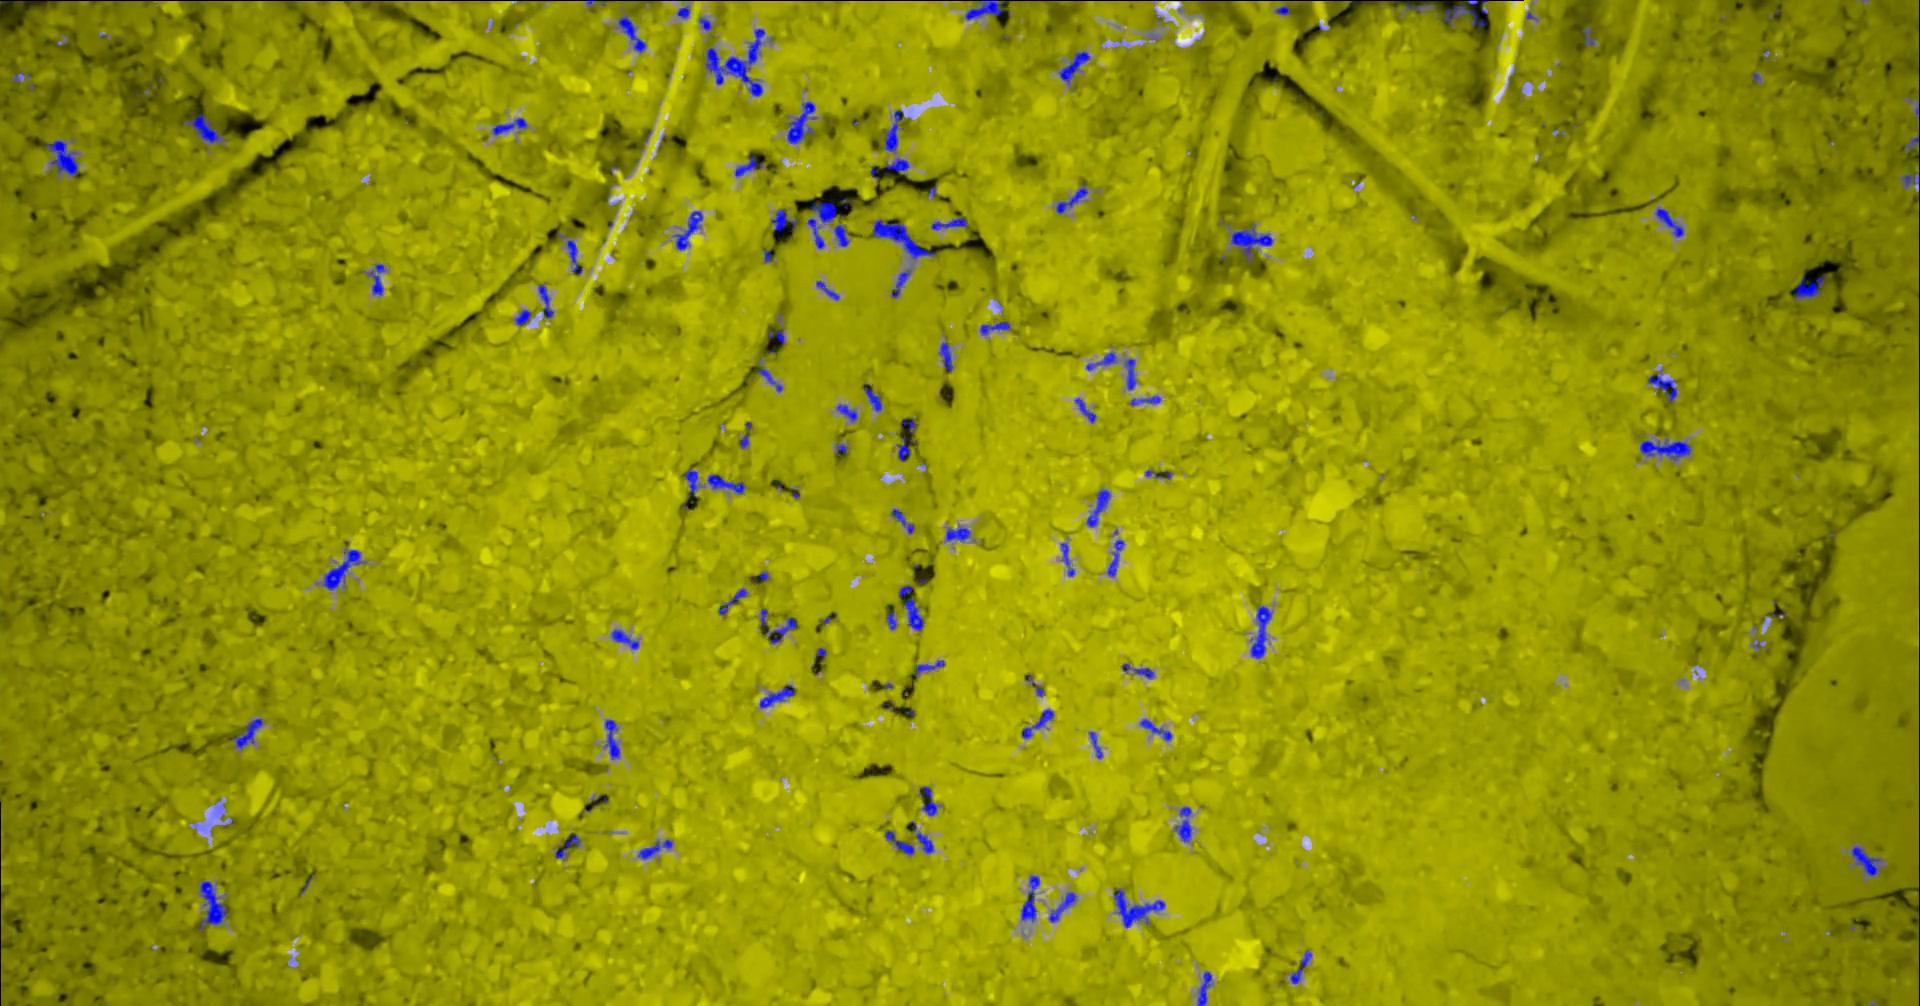ant: (872, 218, 938, 259), (1115, 888, 1166, 927), (324, 549, 363, 589), (1232, 226, 1274, 263), (199, 882, 229, 931), (46, 140, 80, 177), (1445, 0, 1490, 28), (789, 102, 817, 144), (185, 113, 223, 144), (674, 210, 703, 249), (1641, 438, 1691, 460), (1252, 605, 1272, 658), (618, 15, 648, 52), (900, 586, 924, 630), (1057, 183, 1090, 213), (1060, 51, 1091, 83), (1023, 708, 1055, 738), (232, 718, 265, 747), (1088, 489, 1112, 527), (761, 683, 797, 708), (1050, 890, 1078, 922), (1022, 875, 1041, 921), (1656, 208, 1685, 238), (885, 109, 905, 151), (1853, 846, 1881, 876), (968, 0, 1012, 19), (1650, 373, 1677, 403), (720, 588, 749, 615), (768, 617, 797, 643), (886, 829, 916, 855), (1796, 276, 1827, 298), (1142, 718, 1173, 741), (1291, 950, 1313, 983), (709, 474, 745, 493), (737, 155, 768, 177), (757, 366, 783, 391), (639, 840, 674, 859), (606, 719, 621, 760), (891, 508, 916, 533), (811, 201, 838, 224), (1109, 539, 1125, 575), (1176, 807, 1192, 842), (557, 835, 582, 859), (773, 208, 799, 231), (916, 659, 946, 678), (612, 629, 640, 649), (494, 117, 528, 133), (568, 240, 584, 274), (370, 263, 387, 295), (1087, 352, 1117, 370), (893, 269, 912, 297), (863, 384, 883, 412), (1197, 970, 1213, 1005), (1076, 398, 1097, 422), (921, 786, 938, 815), (540, 285, 555, 318), (1123, 663, 1156, 678), (809, 218, 825, 248), (1062, 542, 1076, 575), (817, 279, 841, 298), (684, 467, 700, 497), (1903, 173, 1920, 199), (886, 158, 910, 175), (932, 217, 969, 229), (982, 321, 1012, 334), (941, 340, 954, 371), (1027, 674, 1045, 696), (917, 832, 935, 854), (1404, 0, 1436, 11), (1091, 730, 1103, 758), (899, 434, 912, 461), (947, 527, 971, 541), (838, 404, 858, 420), (836, 224, 850, 246), (742, 420, 753, 448), (1126, 358, 1137, 389), (1131, 395, 1162, 405), (516, 309, 533, 325), (1147, 469, 1173, 478), (770, 329, 786, 343), (1583, 27, 1596, 44), (1906, 133, 1920, 149), (904, 418, 917, 433), (700, 17, 712, 30), (888, 612, 898, 629), (678, 6, 691, 18), (1276, 5, 1291, 14)
